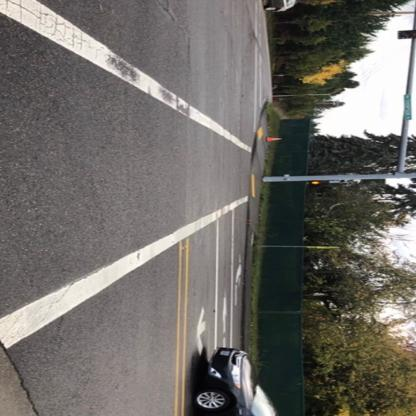Don-t Walk: (310, 180, 324, 188)
